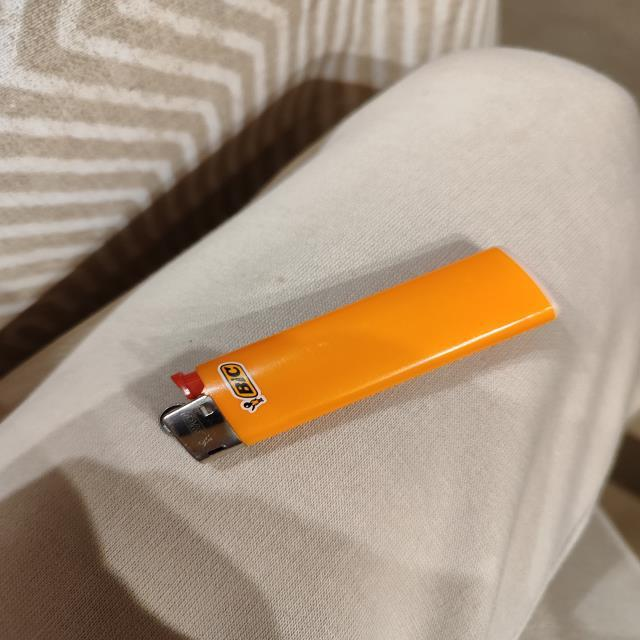lighter: (160, 248, 556, 460)
